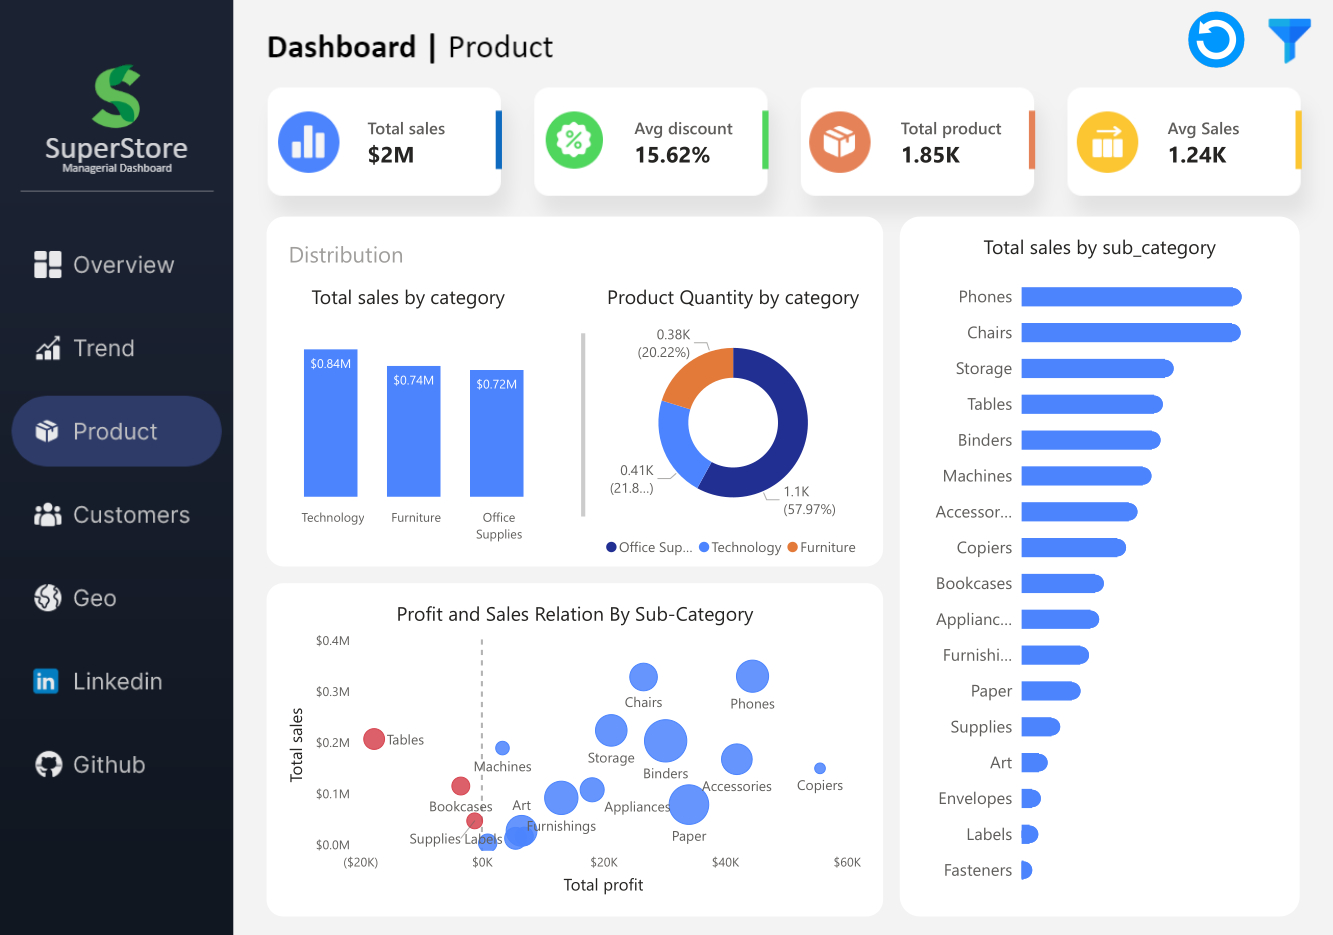

The page's visual inventory and layout, read from the dashboard file:
{"tool":"powerbi","page":{"name":"Product","canvas":[1280,900],"ordinal":2},"visuals":[{"type":"actionButton","title":"Filter swicth_off","box":[1192,0,88,72],"z":1000,"group":"g1"},{"type":"shape","box":[864,208,384,672],"z":1000},{"type":"shape","box":[256,560,592,320],"z":2000},{"type":"cardVisual","fields":{"Data":["Measure_table.Total sales"]},"box":[336,80,112,112],"z":3000},{"type":"cardVisual","fields":{"Data":["Measure_table.avg discount"]},"box":[592,80,160,112],"z":4000},{"type":"cardVisual","fields":{"Data":["Count(gold d_products.product_name)"]},"box":[848,80,144,112],"z":5000},{"type":"cardVisual","fields":{"Data":["Measure_table.AVG sales per Product"]},"box":[1104,80,144,112],"z":6000},{"type":"shape","box":[256,208,592,336],"z":7000},{"type":"scatterChart","title":"Profit and Sales Relation By Sub-Category ","fields":{"Category":["gold d_products.sub_category"],"X":["Measure_table.Total profit"],"Size":["Measure_table.total quantity"],"Y":["Measure_table.Total sales"]},"box":[272,576,560,288],"z":8000},{"type":"barChart","fields":{"Y":["Measure_table.Total sales"],"Category":["gold d_products.sub_category"]},"box":[880,224,352,640],"z":9000},{"type":"columnChart","fields":{"Category":["gold d_products.category"],"Y":["Measure_table.Total sales"]},"box":[240,272,304,256],"z":11000},{"type":"donutChart","title":"Product Quantity by category","fields":{"Category":["gold d_products.category"],"Y":["CountNonNull(gold d_products.product_name)"]},"box":[576,272,256,272],"z":12000},{"type":"shape","box":[528,320,64,176],"z":14000},{"type":"textbox","box":[272,224,144,48],"z":15000},{"type":"image","box":[0,0,224,224],"z":16000},{"type":"image","box":[1136,6,64,64],"z":17000},{"type":"group","id":"g1","title":"Filter","box":[896,0,384,900],"z":18000},{"type":"group","id":"g2","title":"Nav Buttons","box":[0,217.9,224.1,549.7],"z":18001},{"type":"actionButton","box":[0,624.8,224.1,63.3],"z":20000,"group":"g2"},{"type":"actionButton","box":[0,704.3,224.1,63.3],"z":21000,"group":"g2"},{"type":"pageNavigator","box":[0,217.9,224.1,388.6],"z":22000,"group":"g2"}]}

Visuals, with their boxes on the page's 1280x900 design canvas (x1, y1, x2, y2). These are canvas units, not pixel positions in the 1333x935 screenshot, which may show the page scaled, cropped or inside an application window:
"Filter swicth_off" actionButton: [1192, 0, 1280, 72]
shape: [864, 208, 1248, 880]
shape: [256, 560, 848, 880]
cardVisual - Measure_table.Total sales: [336, 80, 448, 192]
cardVisual - Measure_table.avg discount: [592, 80, 752, 192]
cardVisual - Count(gold d_products.product_name): [848, 80, 992, 192]
cardVisual - Measure_table.AVG sales per Product: [1104, 80, 1248, 192]
shape: [256, 208, 848, 544]
"Profit and Sales Relation By Sub-Category " scatterChart: [272, 576, 832, 864]
barChart - Measure_table.Total sales x gold d_products.sub_category: [880, 224, 1232, 864]
columnChart - gold d_products.category x Measure_table.Total sales: [240, 272, 544, 528]
"Product Quantity by category" donutChart: [576, 272, 832, 544]
shape: [528, 320, 592, 496]
textbox: [272, 224, 416, 272]
image: [0, 0, 224, 224]
image: [1136, 6, 1200, 70]
"Filter" group: [896, 0, 1280, 900]
"Nav Buttons" group: [0, 218, 224, 768]
actionButton: [0, 625, 224, 688]
actionButton: [0, 704, 224, 768]
pageNavigator: [0, 218, 224, 606]
